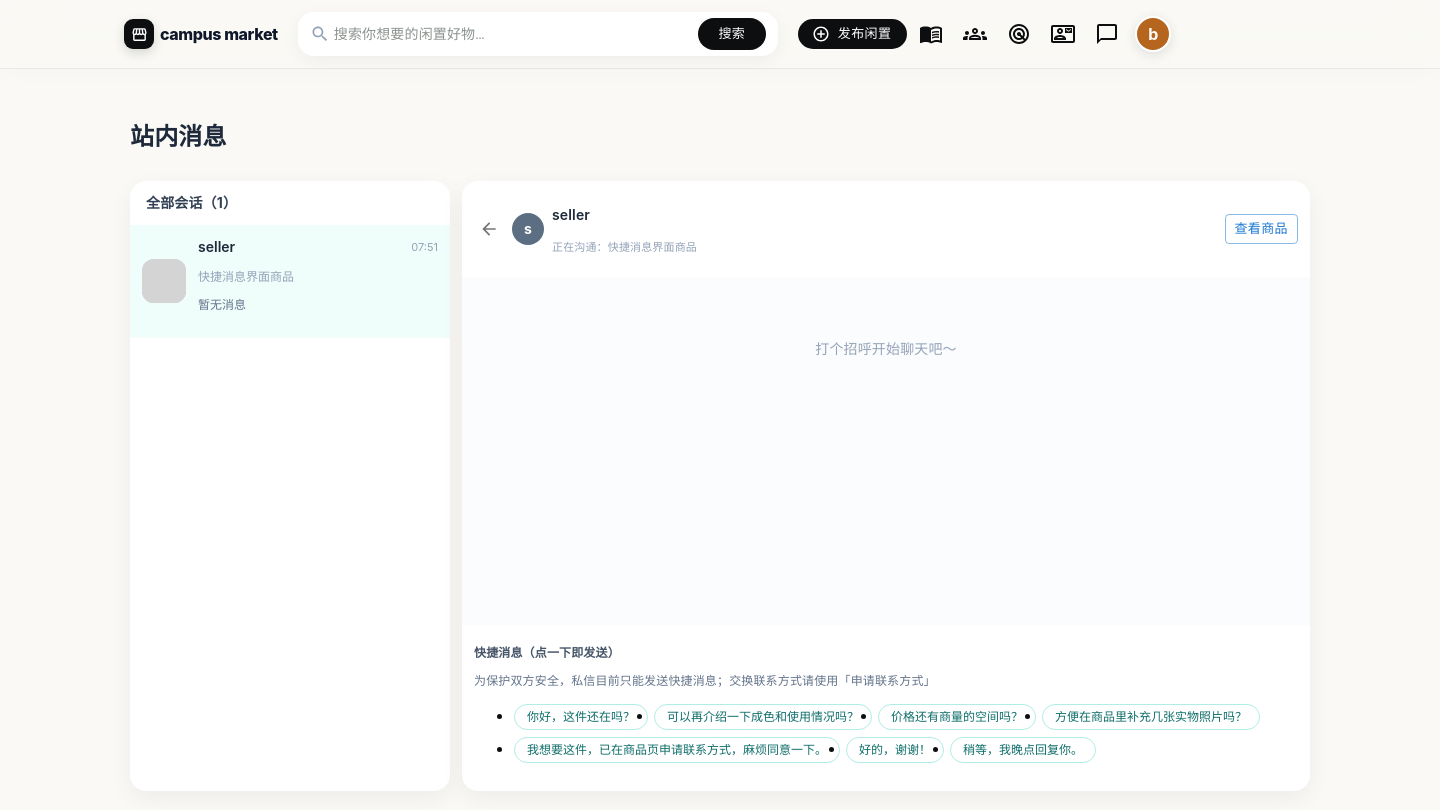
私信快捷消息 › 点一下快捷消息：只提交 { templateCode }，消息出现在聊天记录里
Click the button "方便在商品里补充几张实物照片吗？" at (1151, 717), box [1042,704,1260,730]
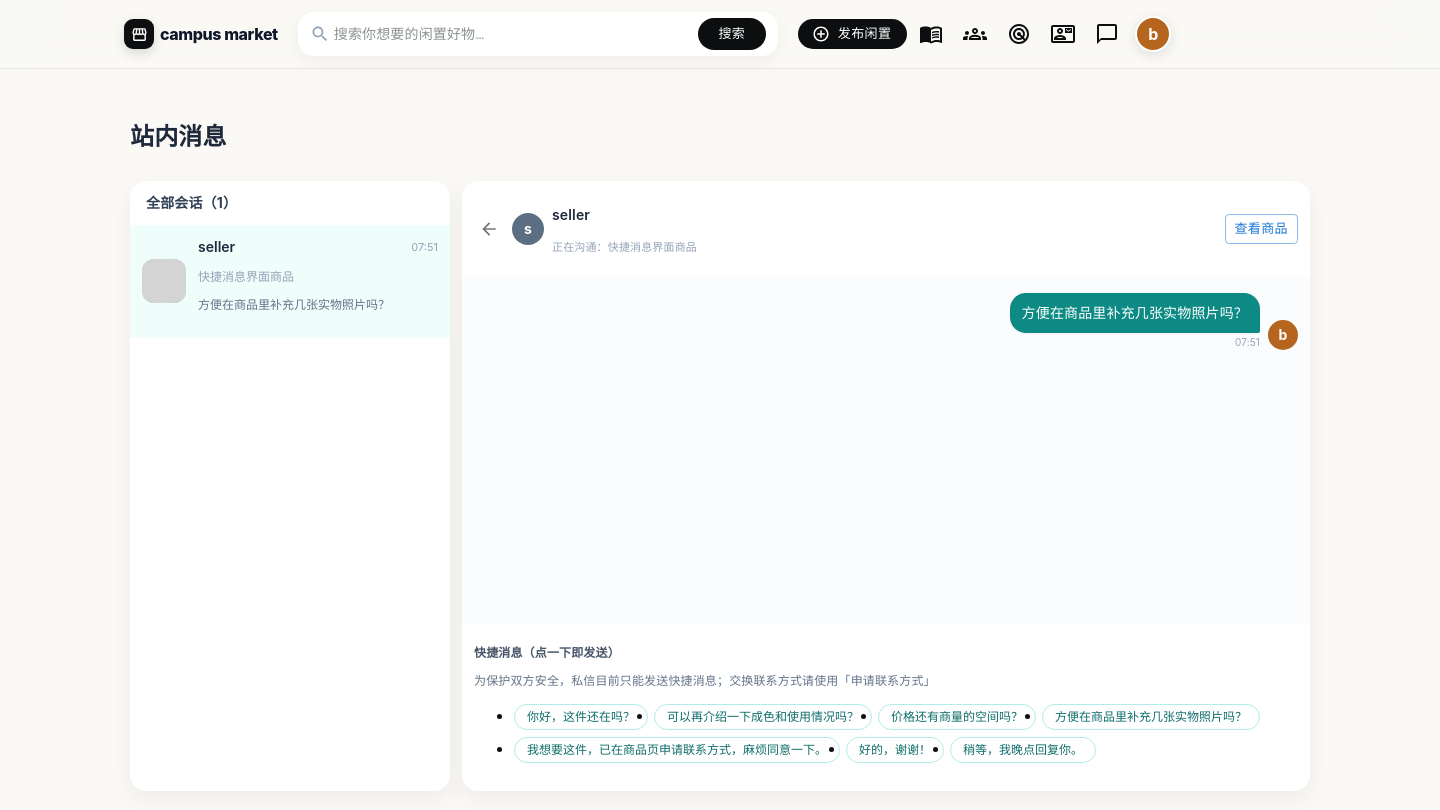
Expected: the 2nd text "方便在商品里补充几张实物照片吗？" is shown, [1010,293,1260,333]
